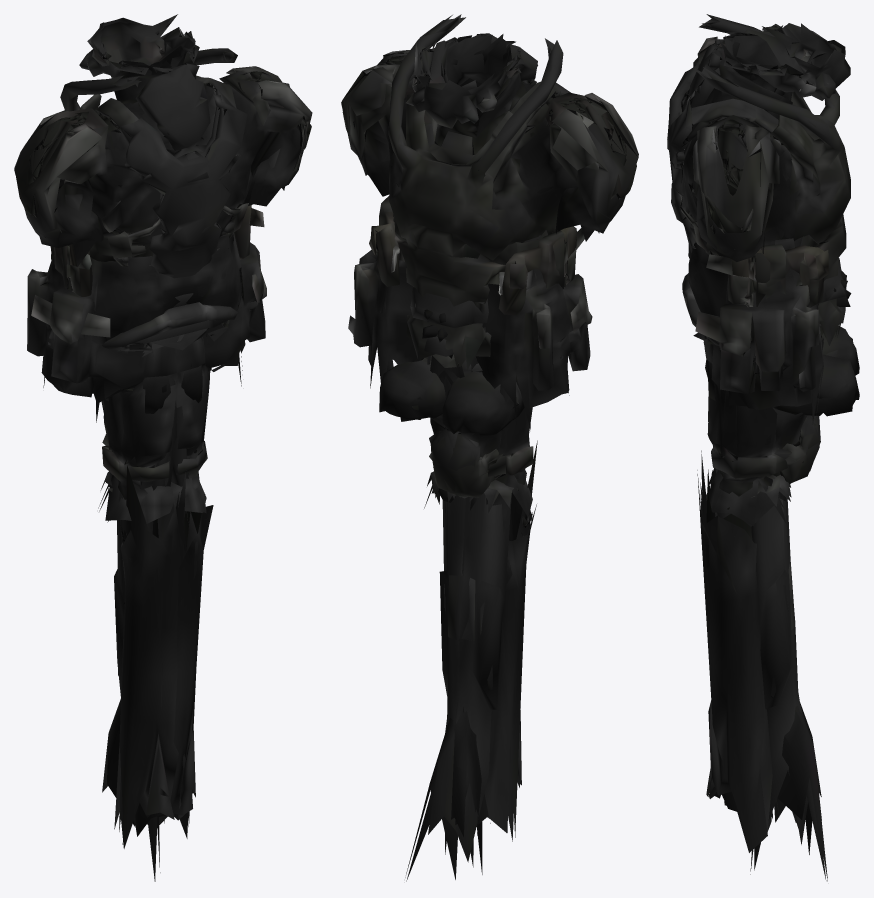
Rendered from wraith.glb.
The picture shows the model from 3 angles, left to right: view 1: azimuth 30°, elevation 25°; view 2: azimuth 150°, elevation 25°; view 3: azimuth 270°, elevation 25°; orthographic projection.
Parts seen in each view (by area): view 1: upper, hips, bicep_L, bicep_R, shin_L, shin_R, head, forearm_R, forearm_L, thigh_L, thigh_R, boot_L (+1 smaller); view 2: upper, hips, forearm_L, bicep_L, forearm_R, boot_L, boot_R, thigh_L, thigh_R, shin_L, head; view 3: upper, bicep_R, hips, forearm_R, shin_R, forearm_L, thigh_R, boot_R, thigh_L, head, boot_L, bicep_L.
Part boxes in pixels (x1=…): upper: x1=14, y1=14, x2=312, y2=353; hips: x1=27, y1=233, x2=266, y2=422; bicep_L: x1=114, y1=465, x2=186, y2=848; bicep_R: x1=134, y1=470, x2=213, y2=838; shin_L: x1=100, y1=343, x2=181, y2=501; shin_R: x1=170, y1=337, x2=210, y2=488; head: x1=102, y1=302, x2=237, y2=356; forearm_R: x1=102, y1=371, x2=188, y2=881; forearm_L: x1=114, y1=374, x2=176, y2=872; thigh_L: x1=98, y1=427, x2=188, y2=523; thigh_R: x1=101, y1=400, x2=206, y2=513; boot_L: x1=92, y1=375, x2=170, y2=413; upper: x1=341, y1=14, x2=638, y2=370; hips: x1=348, y1=214, x2=592, y2=429; forearm_L: x1=405, y1=493, x2=511, y2=881; bicep_L: x1=477, y1=440, x2=537, y2=841; forearm_R: x1=439, y1=495, x2=482, y2=874; boot_L: x1=442, y1=356, x2=524, y2=437; boot_R: x1=379, y1=354, x2=458, y2=421; thigh_L: x1=429, y1=356, x2=532, y2=532; thigh_R: x1=424, y1=355, x2=503, y2=508; shin_L: x1=469, y1=407, x2=533, y2=512; head: x1=410, y1=287, x2=488, y2=356; upper: x1=667, y1=14, x2=850, y2=345; bicep_R: x1=700, y1=450, x2=779, y2=852; hips: x1=688, y1=215, x2=842, y2=426; forearm_R: x1=714, y1=448, x2=821, y2=874; shin_R: x1=704, y1=337, x2=791, y2=506; forearm_L: x1=754, y1=499, x2=827, y2=881; thigh_R: x1=708, y1=337, x2=823, y2=526; boot_R: x1=705, y1=354, x2=859, y2=416; thigh_L: x1=709, y1=335, x2=823, y2=515; head: x1=682, y1=258, x2=846, y2=345; boot_L: x1=821, y1=326, x2=859, y2=375; bicep_L: x1=697, y1=469, x2=771, y2=831.
Bounding box in the file's own units: 0.6556 × 1.85 × 0.3847.
Materials: 1 (1 with a texture image).
